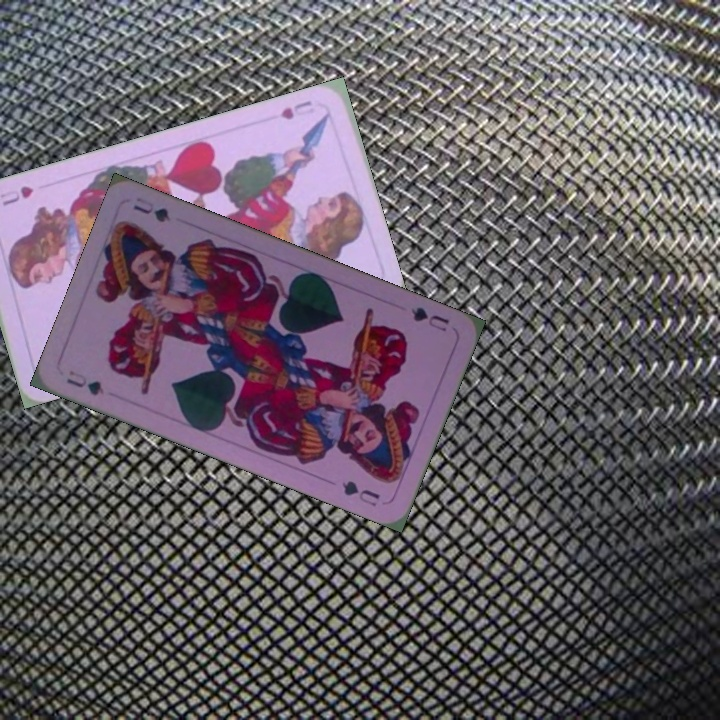GU: (62, 366, 107, 399), (406, 302, 452, 334)
HU: (276, 96, 318, 123)
